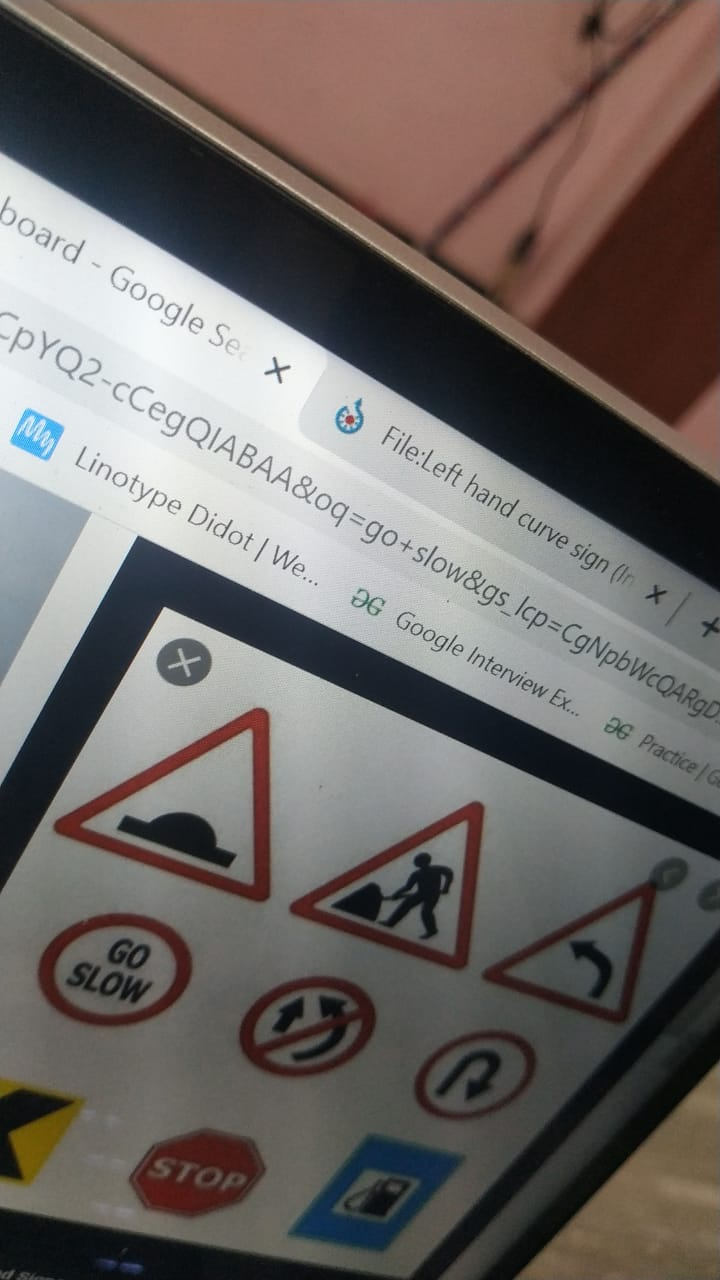GO SLOW: (24, 899, 208, 1047)
LEFT CURVE: (504, 827, 659, 1050)
U-TURN: (412, 1023, 554, 1145)
